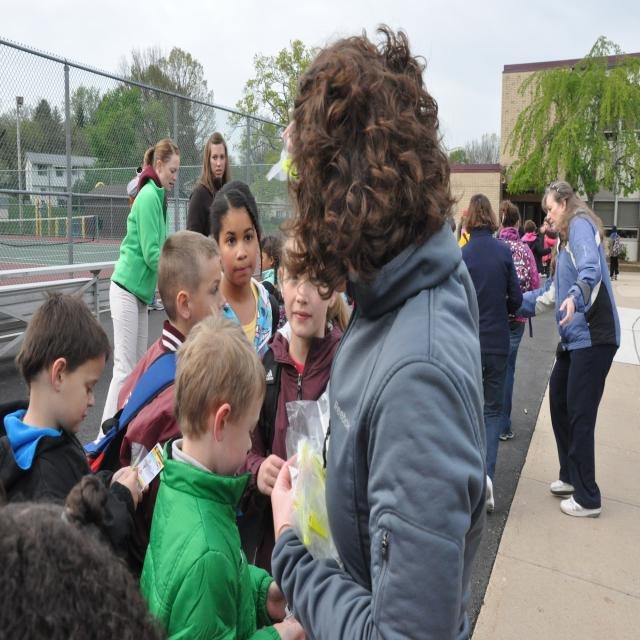body: (270, 20, 488, 640), (139, 311, 309, 640), (82, 226, 255, 474), (0, 287, 153, 565), (237, 212, 348, 571), (539, 177, 624, 524), (94, 137, 181, 442), (459, 192, 524, 516), (209, 179, 280, 358), (495, 199, 541, 442), (430, 180, 482, 287), (184, 130, 233, 238), (514, 215, 568, 278), (258, 235, 287, 331), (521, 218, 553, 276), (541, 216, 559, 280), (606, 224, 622, 282)
